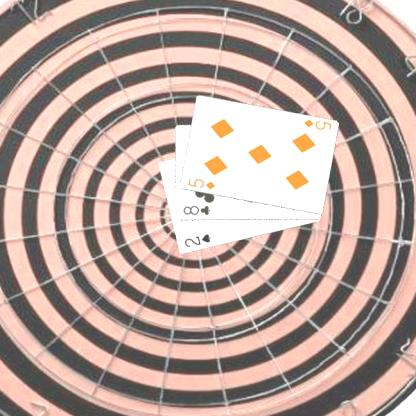2S: (182, 231, 212, 249)
5D: (300, 116, 332, 132), (185, 176, 216, 191)
8C: (180, 203, 212, 217)
